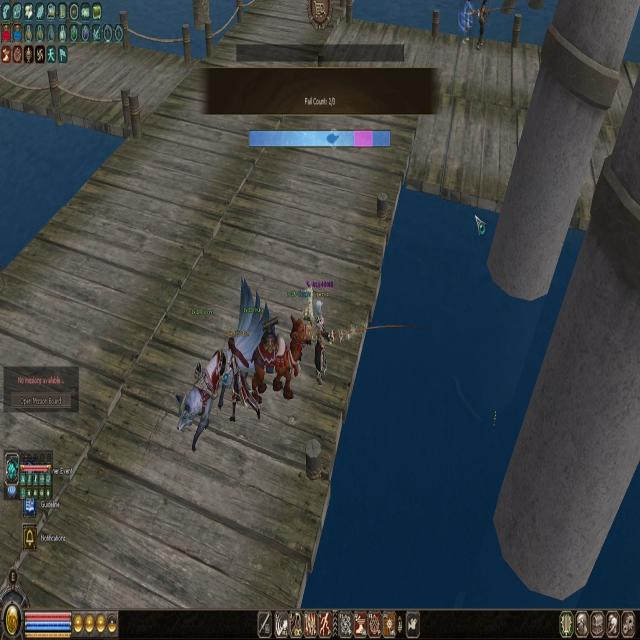box: (354, 131, 373, 148)
fishes: (325, 131, 340, 147)
